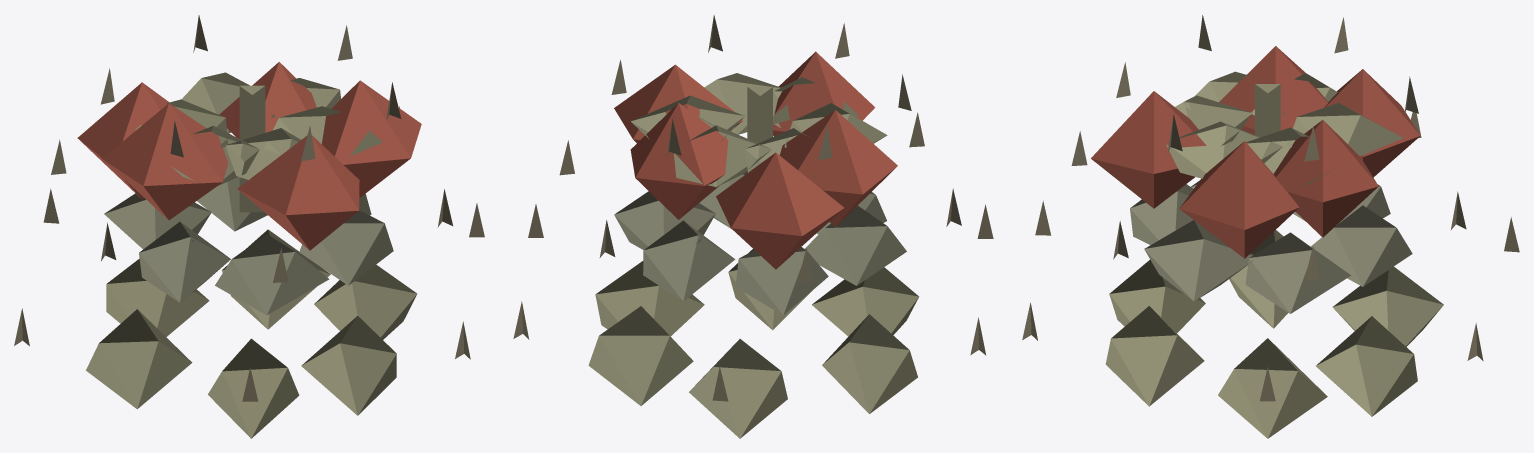
File: cao.shamo@fruiting__winter.glb
3 views of the same model, side by side, from view 1: azimuth 30°, elevation 25°; view 2: azimuth 150°, elevation 25°; view 3: azimuth 270°, elevation 25° (orthographic).
Visible parts, largest first — view 1: cao.shamo@fruiting__winter; view 2: cao.shamo@fruiting__winter; view 3: cao.shamo@fruiting__winter.
Part boxes in pixels (x1,y1,x2,y2): cao.shamo@fruiting__winter: (14,15,484,438); cao.shamo@fruiting__winter: (513,15,993,438); cao.shamo@fruiting__winter: (1022,15,1519,438).
Bounding box in the file's own units: 1.8 × 1.16 × 1.66.
